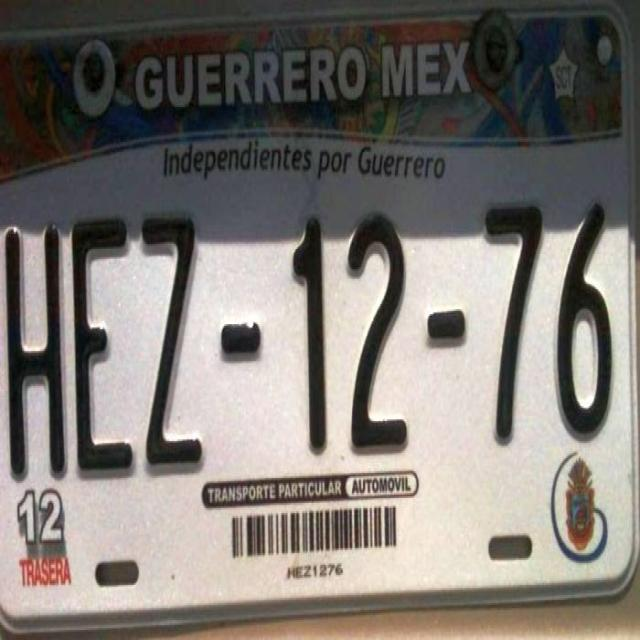placa: (0, 203, 632, 487)
